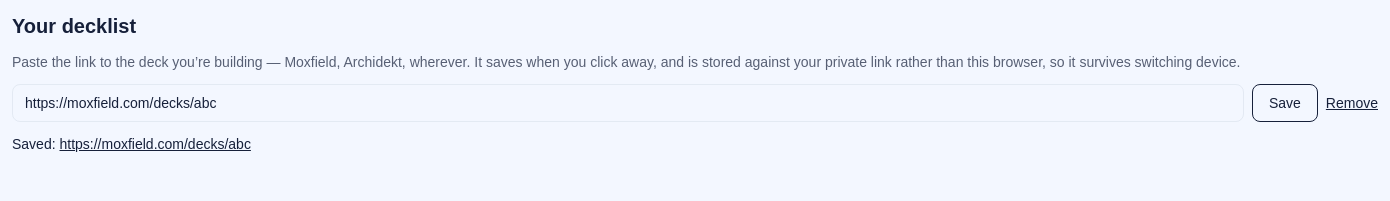
Test: DecklistLink › explains that emptying the box is not how you remove a saved link
Clear the field named "decklist link" at (628, 103), box [12,84,1244,122]
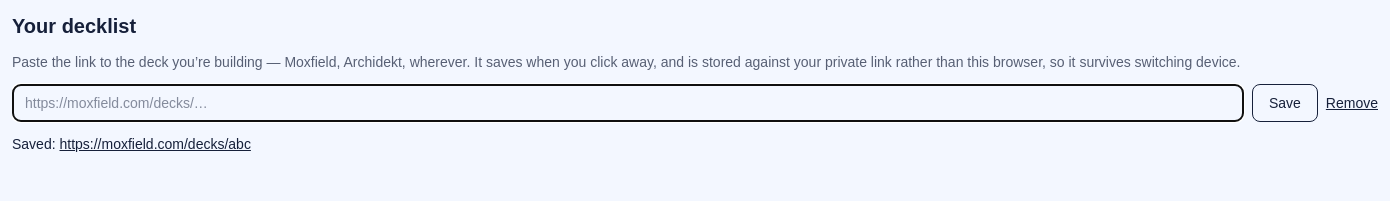
Press Tab
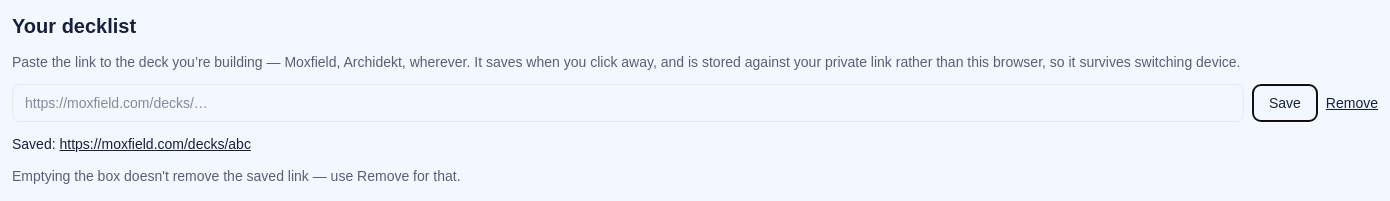
Check: the message shows "use Remove", box [12,168,461,184]
